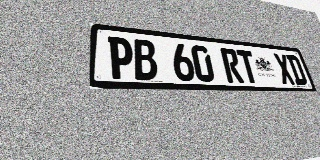0: (190, 45, 215, 82)
6: (170, 43, 196, 81)
B: (132, 39, 158, 80)
D: (285, 54, 308, 85)
P: (108, 36, 134, 80)
R: (220, 48, 244, 83)
T: (236, 49, 260, 83)
X: (273, 53, 296, 85)
